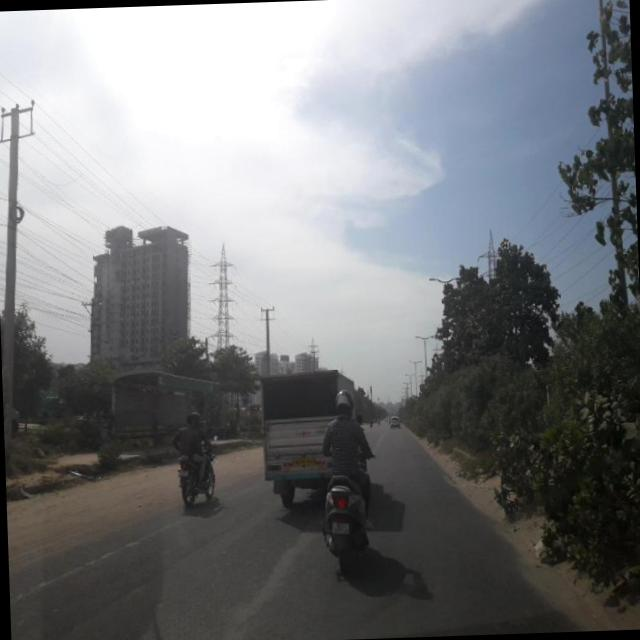crack: (85, 528, 549, 629)
